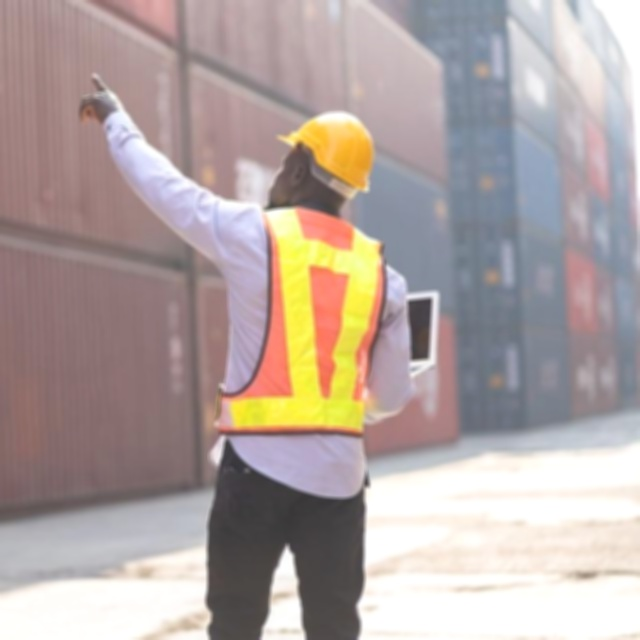Con_Casco: (268, 111, 374, 209)
Con_Chaleco: (209, 212, 388, 441)
